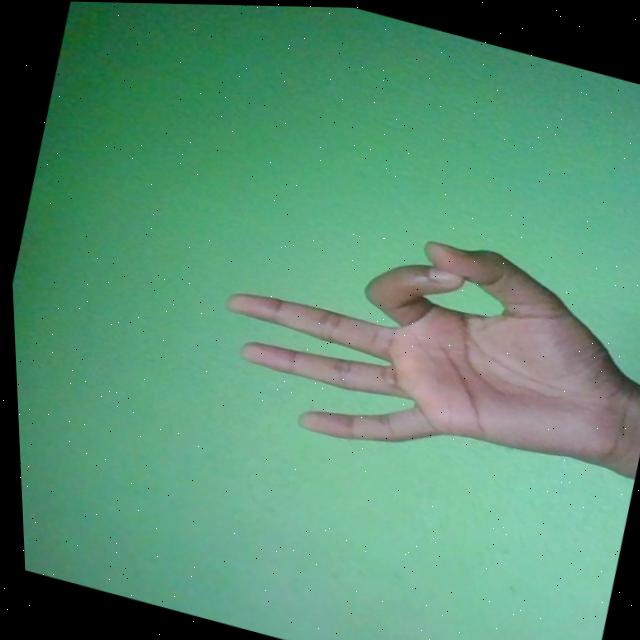Ok: (192, 180, 640, 511)
